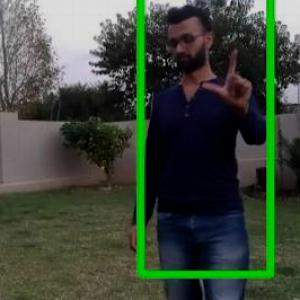land_hand: (198, 39, 258, 110)
